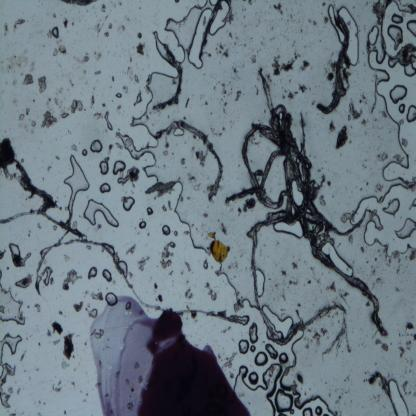Air bubble: (368, 59, 416, 188), (349, 176, 416, 262), (164, 5, 205, 70), (234, 363, 282, 414), (0, 330, 21, 408), (63, 155, 90, 214), (338, 9, 360, 66), (0, 282, 27, 326), (264, 302, 294, 338), (83, 198, 119, 228), (188, 7, 204, 71), (324, 242, 352, 278), (388, 377, 410, 415), (326, 5, 346, 43), (209, 2, 230, 36), (273, 222, 304, 240), (274, 388, 294, 413), (394, 219, 416, 240), (386, 25, 404, 50), (153, 30, 167, 59), (388, 84, 408, 104), (255, 268, 266, 300), (382, 198, 401, 216), (366, 24, 381, 45), (264, 342, 279, 361), (8, 243, 24, 259), (112, 160, 127, 176), (42, 264, 52, 288), (254, 350, 268, 367), (405, 18, 416, 39), (85, 302, 99, 317), (405, 104, 416, 123), (98, 160, 110, 177), (90, 138, 102, 155), (104, 112, 114, 132), (122, 198, 136, 212), (403, 63, 416, 78), (238, 338, 250, 354), (249, 323, 258, 344), (105, 292, 117, 307), (87, 265, 98, 280), (101, 269, 112, 284), (248, 371, 259, 386), (118, 259, 127, 277), (134, 92, 144, 108), (391, 13, 405, 24), (99, 182, 111, 194), (173, 127, 185, 139), (278, 353, 289, 365), (51, 25, 60, 39), (161, 224, 171, 236), (300, 408, 314, 416), (398, 103, 407, 115), (138, 220, 148, 230), (315, 404, 323, 415), (409, 196, 416, 208), (115, 90, 122, 102), (202, 262, 209, 274), (146, 206, 154, 216), (81, 148, 88, 157), (249, 344, 256, 353)
Background material: (116, 69, 169, 186), (272, 51, 299, 76), (61, 266, 82, 294), (5, 50, 29, 74), (159, 240, 176, 271), (144, 180, 176, 196), (117, 166, 140, 186), (336, 124, 350, 153), (346, 98, 362, 123), (390, 250, 404, 278), (311, 325, 329, 346), (16, 272, 35, 290), (52, 86, 66, 110), (63, 332, 75, 360), (42, 110, 59, 129), (209, 123, 226, 140), (242, 197, 258, 215), (215, 39, 229, 59), (205, 281, 218, 302), (222, 352, 237, 370), (59, 0, 97, 7), (374, 335, 389, 352), (188, 174, 202, 192), (136, 255, 150, 273), (194, 147, 206, 168), (12, 16, 26, 34), (70, 98, 84, 115), (50, 320, 64, 336), (37, 74, 48, 94), (22, 72, 36, 87), (325, 63, 336, 82), (298, 58, 312, 72), (76, 53, 91, 66), (134, 41, 146, 57), (17, 106, 31, 119), (89, 289, 104, 301), (294, 301, 304, 319), (333, 392, 346, 405), (272, 3, 284, 17), (391, 152, 405, 164), (94, 20, 104, 36), (53, 44, 66, 56), (72, 299, 84, 312), (340, 211, 352, 224), (396, 345, 406, 360), (125, 244, 137, 256), (377, 151, 388, 164), (184, 287, 194, 301), (234, 88, 243, 103), (318, 193, 327, 208), (92, 51, 102, 64), (220, 83, 228, 99), (328, 120, 337, 134), (404, 320, 415, 331), (156, 294, 166, 306), (341, 370, 351, 382), (52, 380, 62, 392), (287, 14, 299, 24), (114, 140, 124, 152), (92, 110, 102, 122), (308, 16, 320, 26), (298, 82, 308, 94), (296, 370, 304, 385), (163, 140, 170, 157), (62, 16, 70, 30), (253, 80, 260, 96), (162, 202, 173, 212), (61, 361, 70, 373), (288, 278, 300, 287), (302, 338, 311, 350), (184, 262, 192, 275), (249, 53, 258, 64), (43, 161, 52, 172), (401, 136, 408, 150), (220, 222, 227, 236), (106, 142, 113, 156), (233, 32, 240, 46), (221, 101, 228, 115), (228, 10, 235, 24), (89, 94, 96, 108), (409, 249, 416, 263), (328, 282, 336, 294), (62, 252, 70, 264), (231, 64, 239, 76), (375, 182, 384, 192), (19, 351, 28, 361), (287, 90, 296, 100), (290, 261, 299, 271), (180, 156, 188, 167), (34, 303, 42, 314), (259, 36, 266, 48), (118, 24, 125, 36), (4, 22, 10, 36), (340, 292, 349, 301), (113, 102, 123, 110), (380, 110, 388, 120), (359, 92, 366, 103), (100, 3, 107, 14), (184, 97, 191, 108), (61, 111, 69, 120), (136, 30, 143, 40), (403, 379, 408, 393), (46, 29, 52, 40), (134, 74, 140, 85), (404, 342, 412, 350), (70, 144, 78, 152), (324, 180, 332, 188), (52, 338, 60, 346), (36, 219, 42, 229), (237, 205, 242, 217), (268, 36, 278, 42), (203, 211, 210, 219), (94, 69, 102, 76), (30, 120, 37, 128), (280, 270, 288, 277), (109, 74, 116, 82), (309, 98, 316, 106), (46, 97, 51, 108), (360, 246, 366, 255), (28, 228, 33, 238), (0, 249, 5, 259), (51, 223, 57, 231), (265, 74, 271, 82), (47, 329, 53, 337), (71, 380, 76, 389), (63, 407, 68, 416), (324, 14, 328, 25), (103, 31, 109, 38), (8, 412, 18, 416), (83, 338, 88, 346), (184, 230, 189, 238), (366, 300, 371, 308), (102, 100, 107, 108), (108, 22, 113, 30), (409, 358, 414, 366), (396, 288, 402, 294), (306, 279, 312, 285), (173, 229, 178, 236), (154, 283, 159, 290), (246, 0, 254, 4), (179, 194, 183, 202), (59, 308, 63, 316), (376, 282, 384, 286), (413, 334, 416, 343), (35, 367, 40, 372), (87, 245, 92, 250), (229, 32, 233, 38), (38, 399, 42, 405), (242, 12, 246, 18), (0, 267, 2, 279), (322, 1, 326, 7), (37, 341, 41, 346), (300, 28, 304, 33), (84, 392, 88, 397), (53, 12, 56, 18), (204, 102, 208, 106), (324, 413, 329, 416), (27, 304, 30, 309), (244, 44, 247, 48), (335, 412, 337, 416)
Cellulose filter fibre: (228, 73, 391, 338), (34, 238, 255, 322), (248, 227, 348, 354), (156, 119, 224, 202), (0, 137, 56, 210), (317, 12, 354, 114), (370, 0, 416, 68), (0, 210, 88, 238), (154, 42, 182, 111), (198, 1, 226, 60), (368, 368, 389, 396)
Pen: (90, 298, 252, 415)
